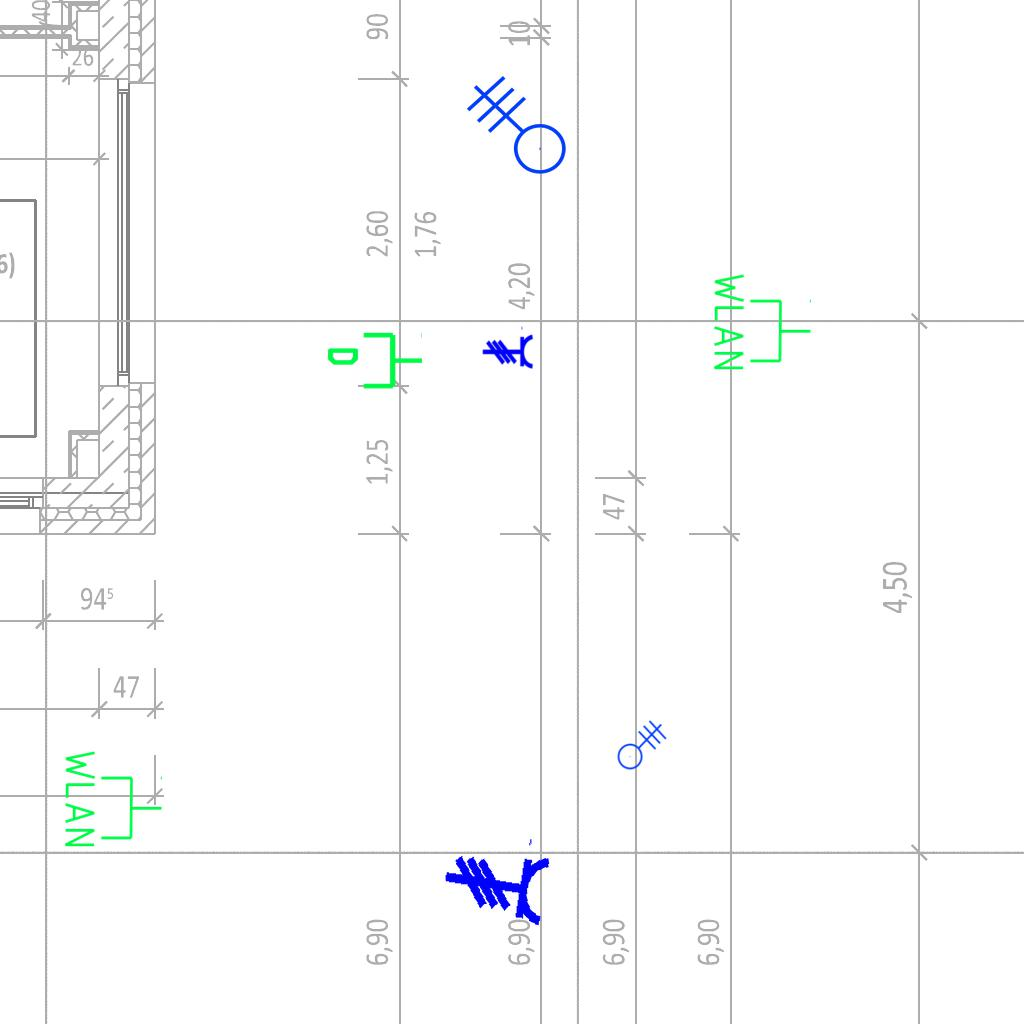CEE_Drehstrom_Steckdose_16_32_A: (438, 823, 556, 929), (482, 325, 534, 370)
Datenanschluss_einfach: (325, 328, 425, 397)
Elektroanschluss_allgemein_400V_Geraeteanschlussdose_400V: (454, 75, 567, 191), (609, 714, 667, 770)
WLAN: (61, 746, 165, 851), (710, 269, 814, 374)
